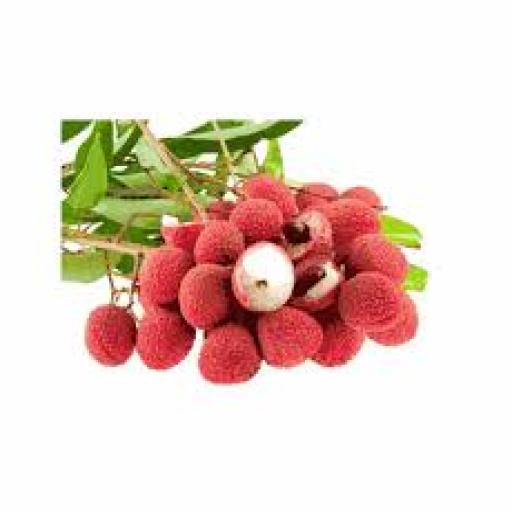lychee: (232, 241, 293, 310), (317, 199, 380, 259), (259, 307, 322, 367), (339, 272, 402, 331), (199, 323, 260, 383), (136, 309, 195, 369), (179, 265, 231, 329), (85, 304, 135, 367), (141, 246, 193, 306), (346, 234, 407, 285), (292, 255, 342, 310), (312, 318, 365, 367), (368, 295, 418, 346), (241, 176, 298, 219), (283, 211, 331, 259), (230, 199, 282, 243), (194, 220, 244, 264), (161, 223, 204, 252), (297, 183, 338, 210), (341, 188, 382, 210), (208, 199, 235, 219)
